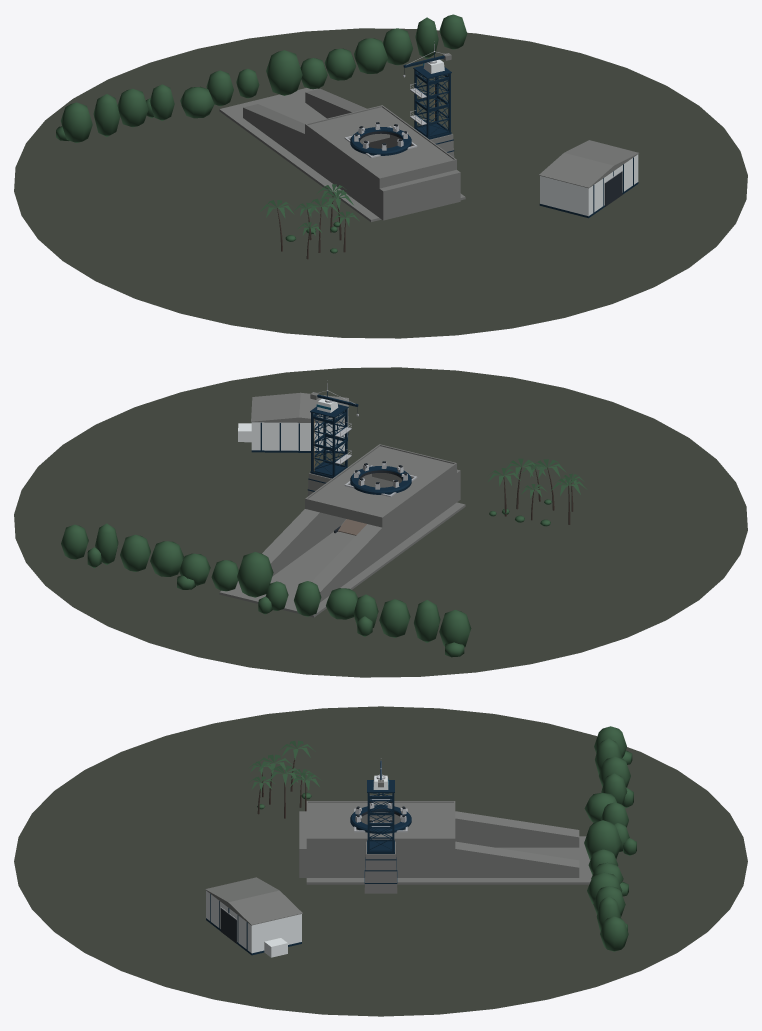
Rendered from site_equatorial_spaceport.glb.
3 views of the same model, one above another, from view 1: azimuth 30°, elevation 25°; view 2: azimuth 150°, elevation 25°; view 3: azimuth 270°, elevation 25° (orthographic).
Parts seen in each view (by area): view 1: site_equatorial_spaceport_mesh; view 2: site_equatorial_spaceport_mesh; view 3: site_equatorial_spaceport_mesh.
Part boxes in pixels (x1,y1,x2,y2): site_equatorial_spaceport_mesh: (14,14,747,338); site_equatorial_spaceport_mesh: (14,367,747,677); site_equatorial_spaceport_mesh: (14,706,747,1016).
Bounding box in the file's own units: 148 × 28.72 × 148.
